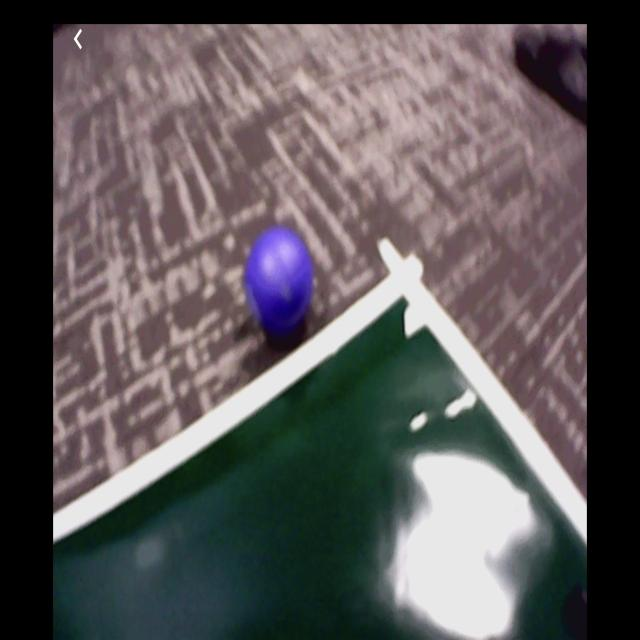ball: (250, 222, 311, 327)
